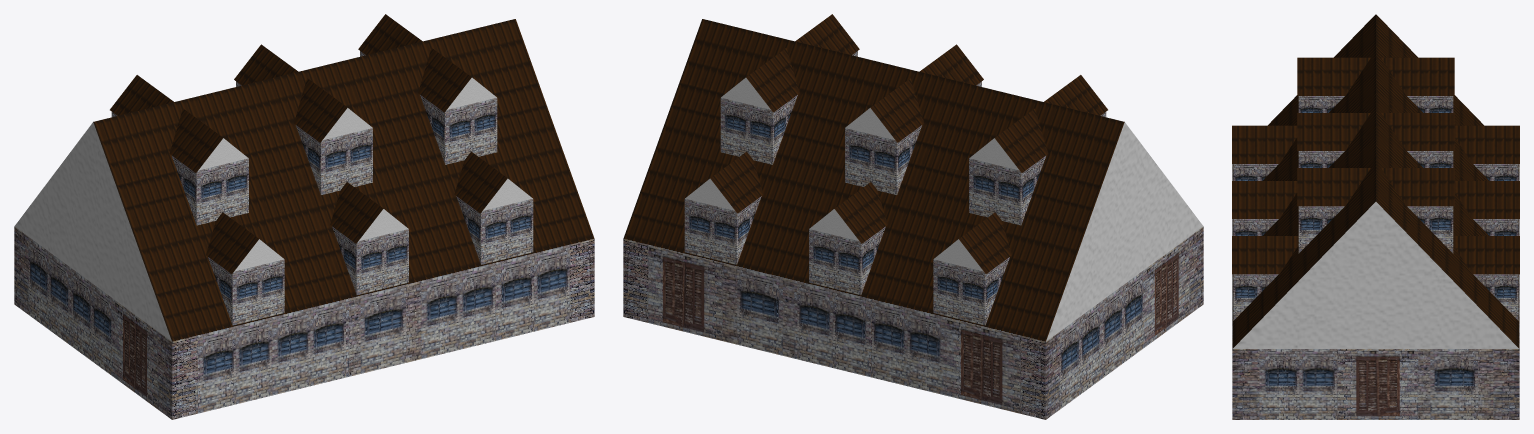
The model's file is House_009.dae.
3 renders of one model, left to right at view 1: azimuth 30°, elevation 25°; view 2: azimuth 150°, elevation 25°; view 3: azimuth 270°, elevation 25°, orthographic. The views are drawn at different scales.
Visible parts, largest first — view 1: House_009; view 2: House_009; view 3: House_009.
Part boxes in pixels (<box>): House_009: <box>14,14,594,419</box>; House_009: <box>623,14,1203,419</box>; House_009: <box>1232,14,1519,419</box>.
Bounding box in the file's own units: 136 × 88.24 × 73.93.
